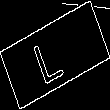L_NW: (36, 26, 74, 84)
